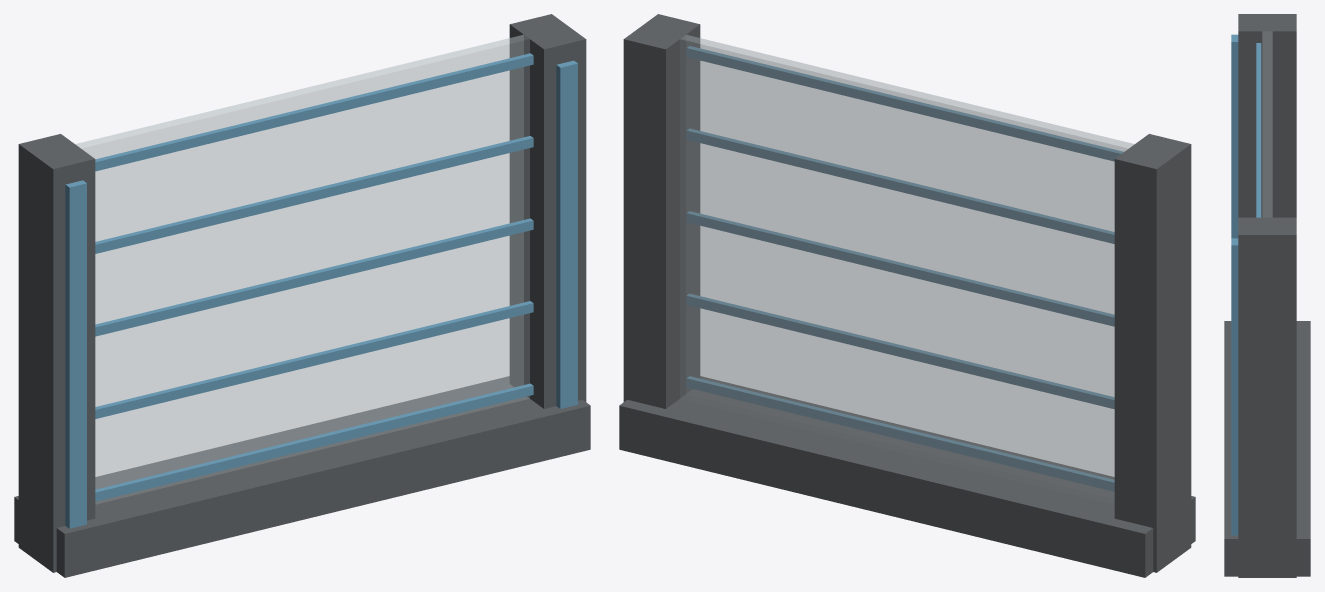
The model's file is dep_barrier.glb.
3 views of the same model, side by side, from view 1: azimuth 30°, elevation 25°; view 2: azimuth 150°, elevation 25°; view 3: azimuth 270°, elevation 25° (orthographic). The views are drawn at different scales.
Visible parts, largest first — view 1: dep_barrier; view 2: dep_barrier; view 3: dep_barrier.
Boxes of the visible parts, <box> form: dep_barrier: <box>14,14,590,577</box>; dep_barrier: <box>619,14,1195,577</box>; dep_barrier: <box>1224,14,1310,577</box>.
Size of the model in its own units: 3.04 by 2.2 by 0.5001.
